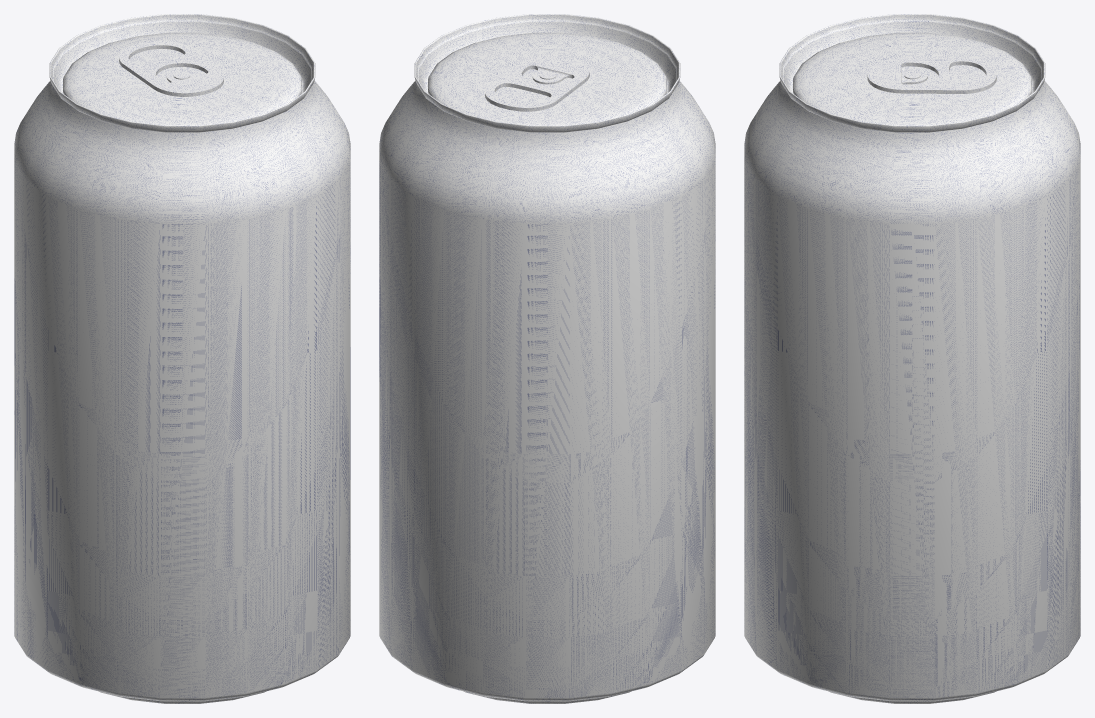
3 renders of one model, left to right at view 1: azimuth 30°, elevation 25°; view 2: azimuth 150°, elevation 25°; view 3: azimuth 270°, elevation 25°, orthographic.
Parts seen in each view (by area): view 1: can_355 (×2), can_tab; view 2: can_355 (×2), can_tab; view 3: can_355 (×2), can_tab.
Part boxes in pixels (<box>): can_355 (×2): <box>14,14,350,703</box>; can_tab: <box>119,40,223,96</box>; can_355 (×2): <box>379,14,715,703</box>; can_tab: <box>485,55,589,111</box>; can_355 (×2): <box>744,14,1080,703</box>; can_tab: <box>867,57,996,93</box>.
Bounding box in the file's own units: 2.53 × 2.53 × 4.81.
